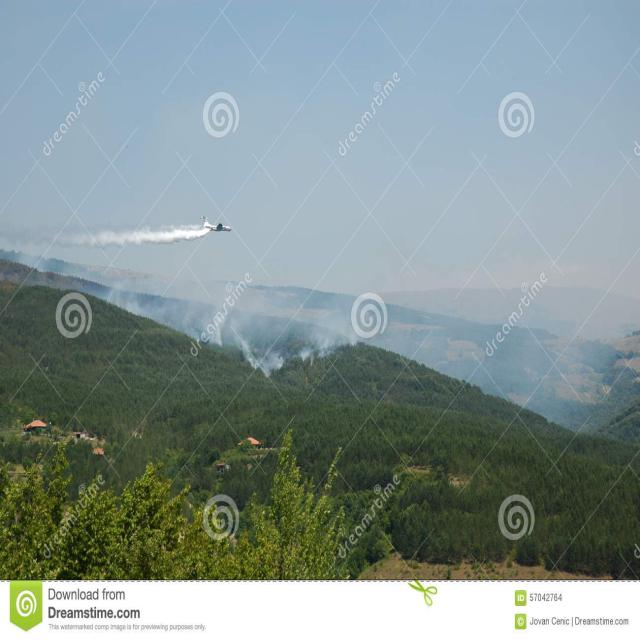Smoke: (102, 276, 339, 368), (51, 219, 208, 250)
